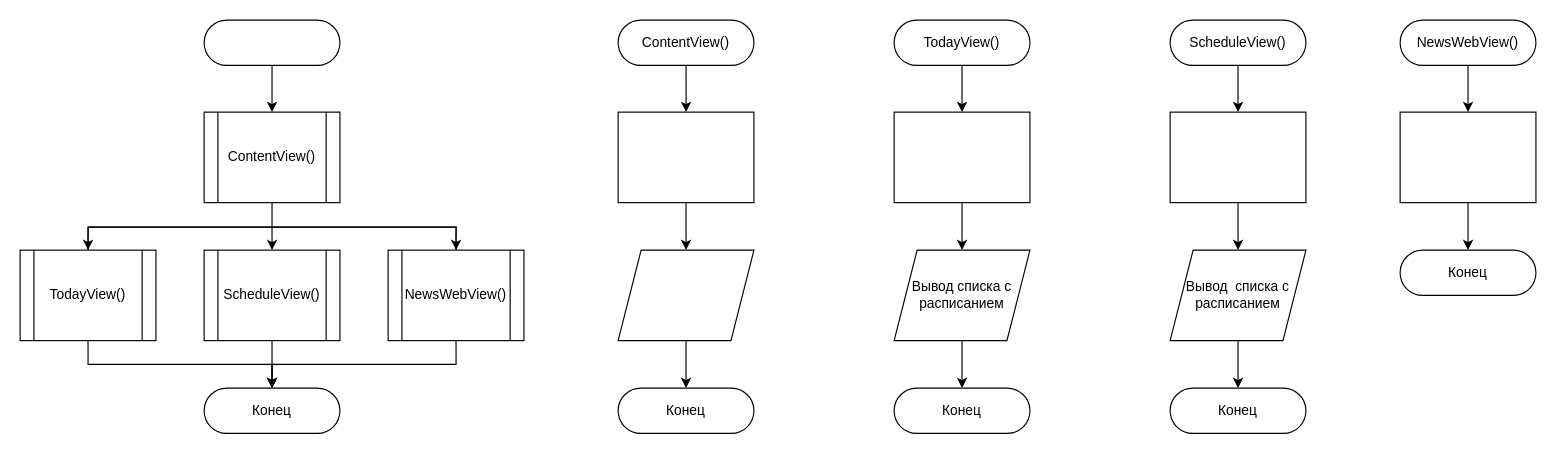
Image size: 1557x454. Some labels were removed from this diagram. Here are the shapes that lost their labels. From the top down, the centre of each, then its label:
At point (271, 42): "Начало".
At point (685, 157): "Установка соединения с БД. Загрузка БД.".
At point (961, 157): "Обращение к БД. Сортировка списка для отображения расписания на текущий день.".
At point (1237, 157): "Обращение к БД. Сортировка списка для отображения на всю неделю.".
At point (1467, 157): "Загрузка сайта с новостями и отображение их в приложении.".
At point (685, 295): "Выбор нужных опций пользователем".
